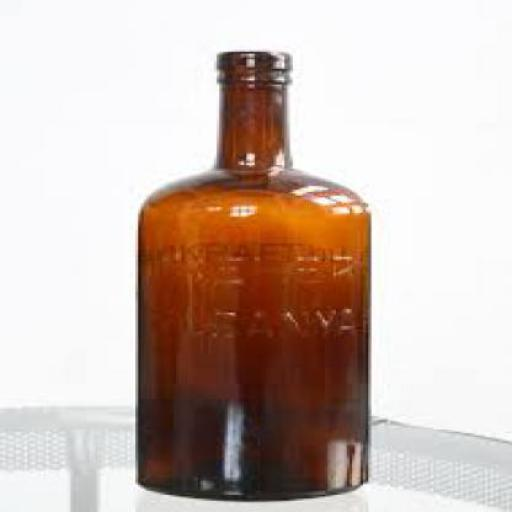glass: (133, 50, 368, 499)
